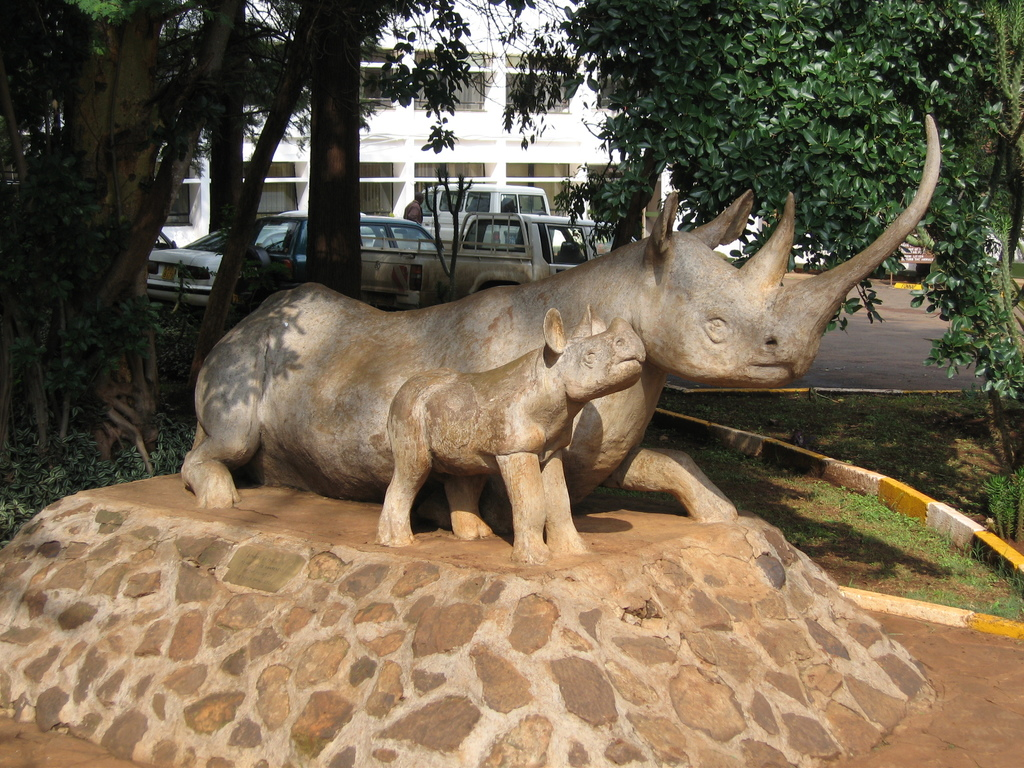Animal: (173, 109, 943, 509), (381, 303, 646, 574)
